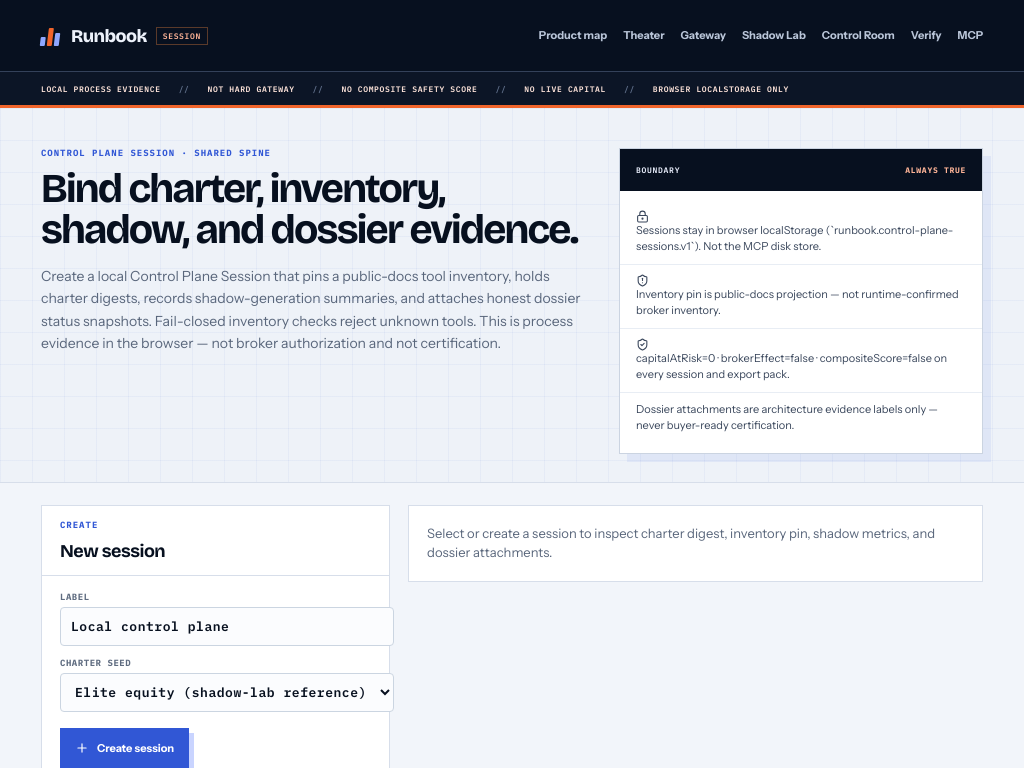
Scenario: Session dashboard › imports tools/list sample JSON and fail-closes on place_crypto_order_unknown
Replace the text in the field named "Session label" with "Tools list import" at {"x": 227, "y": 627}, box 60,607 -> 394,646
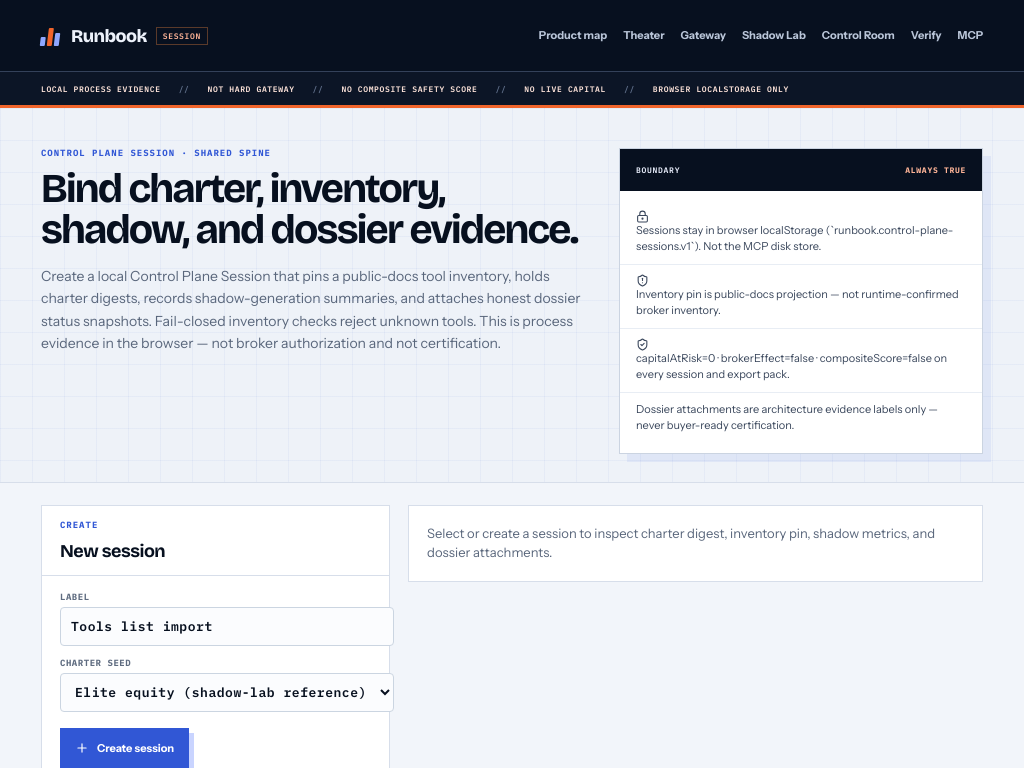
Click the button "Create session" at {"x": 125, "y": 748}, box 60,728 -> 189,767
(page scrolled)
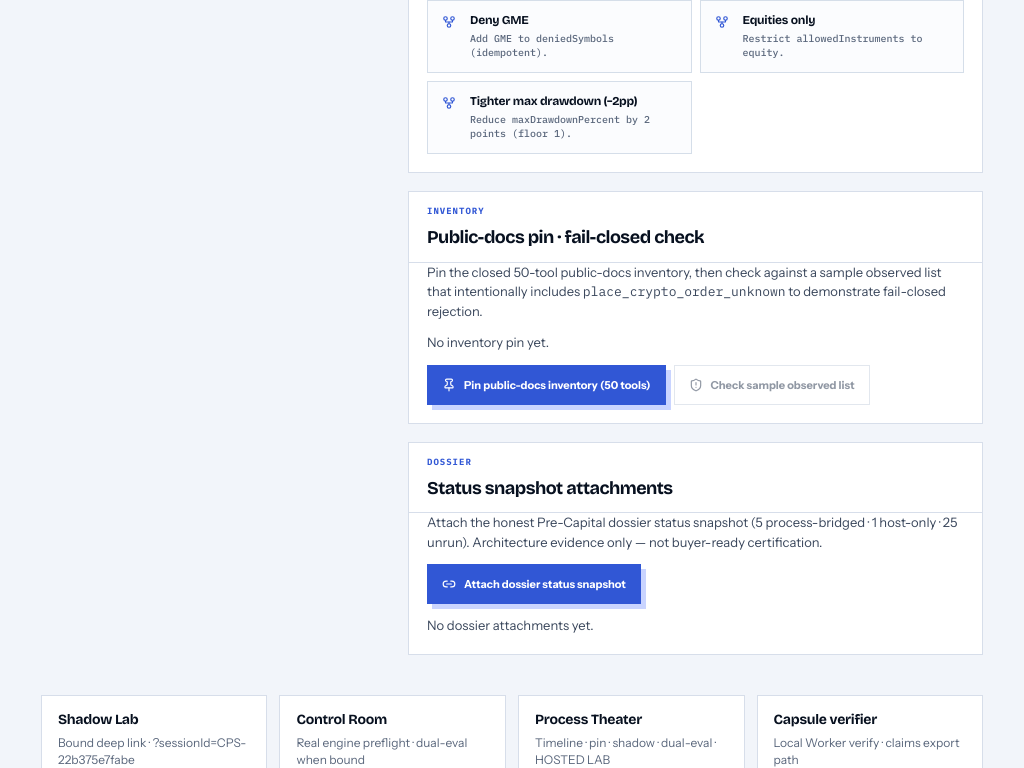
Click the button "Pin public-docs inventory (50 tools)" at {"x": 546, "y": 385}, box 427,365 -> 666,405
(page scrolled)
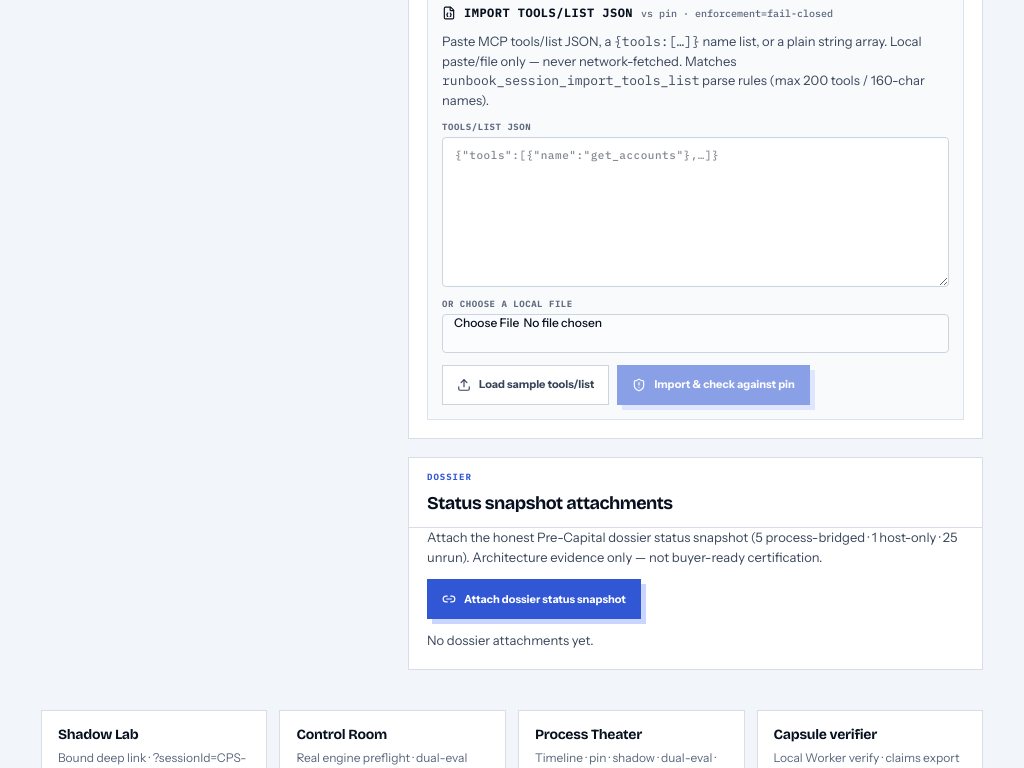
Click the button "Load sample tools/list" at {"x": 526, "y": 385}, box 442,365 -> 609,405
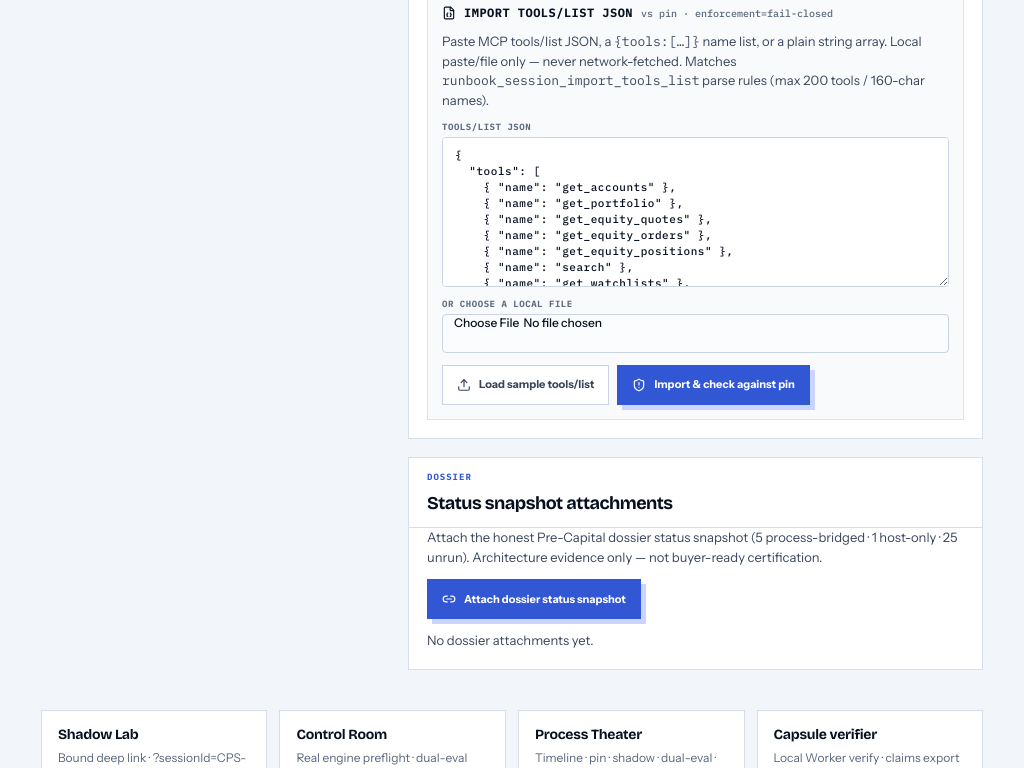
Click the button "Import & check against pin" at {"x": 714, "y": 385}, box 617,365 -> 810,405
(page scrolled)
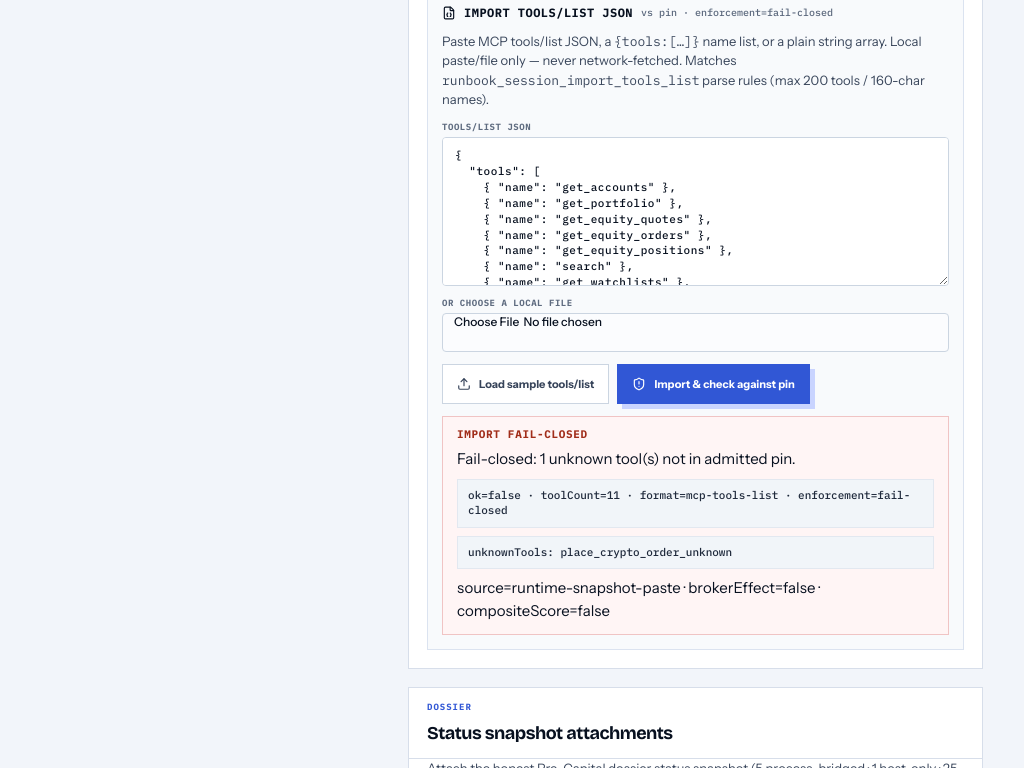
Now the element named "tools/list import result" is shown, box 442,416 -> 949,635
Now the text "IMPORT FAIL-CLOSED" is shown, box 457,427 -> 588,441
Now the text "unknownTools: place_crypto_order_unknown" is shown, box 457,536 -> 934,569
